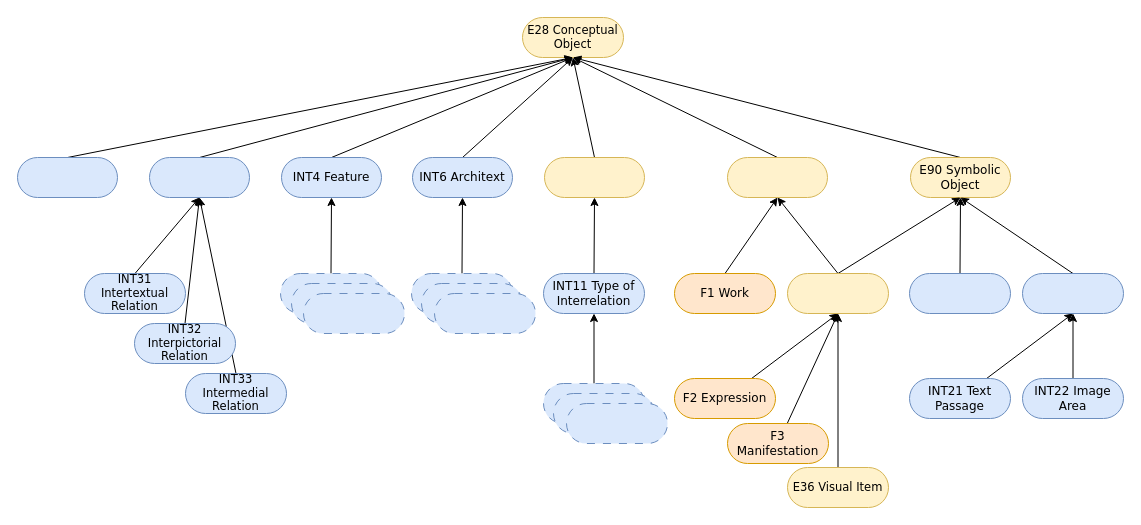
The diagram is 1141 pixels wide and 525 high, and some of its shapes have lost their labels. The shapes that lost their labels are listed below. From the top down, each one's box as (x1, y1, x2, y2) in pixels, then its label:
(16, 156, 118, 198): INT2 Actualization of Feature
(148, 156, 250, 198): INT3 Interrelation
(544, 156, 644, 198): E55 Type
(726, 156, 828, 198): E89 Propositional Object
(786, 272, 888, 314): E73 Information Object
(908, 272, 1010, 314): INT16 Segment
(1022, 272, 1124, 314): INT1 Passage
